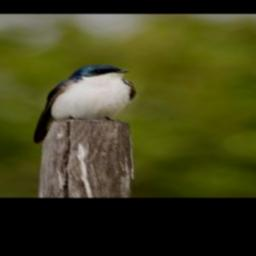Swallow: (32, 61, 140, 144)
